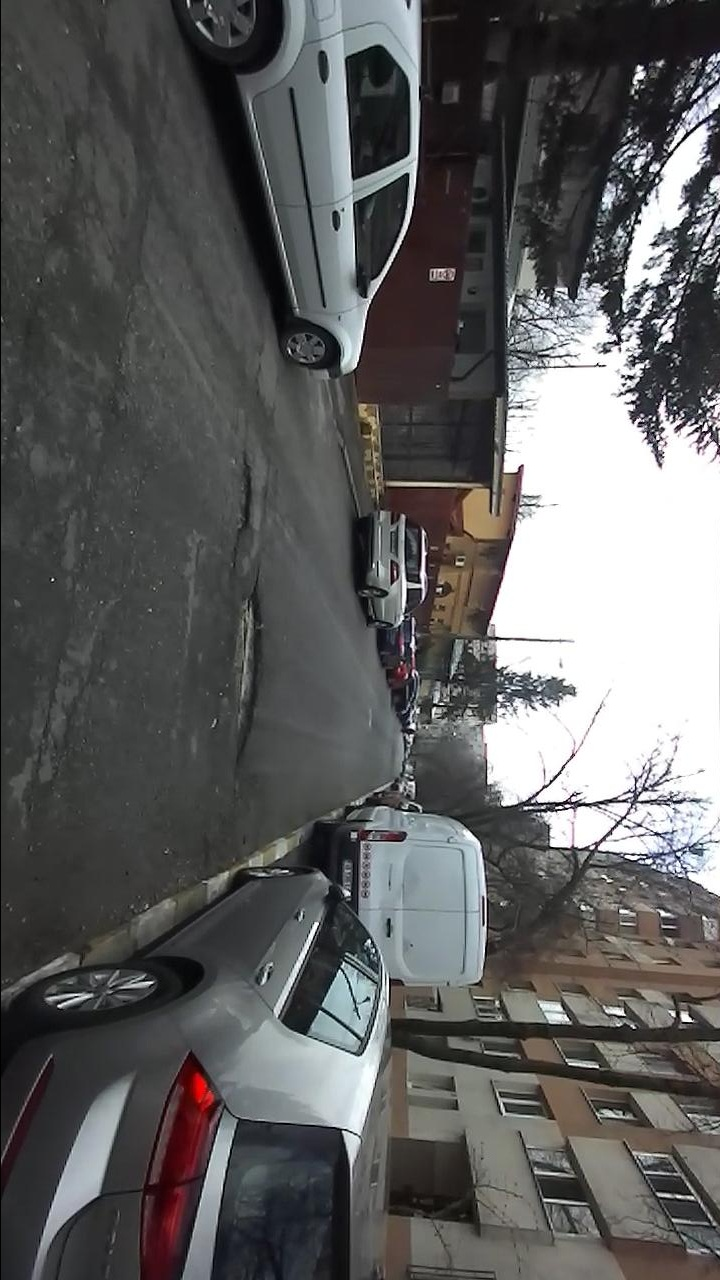pothole: (226, 574, 267, 775), (227, 447, 257, 558)
